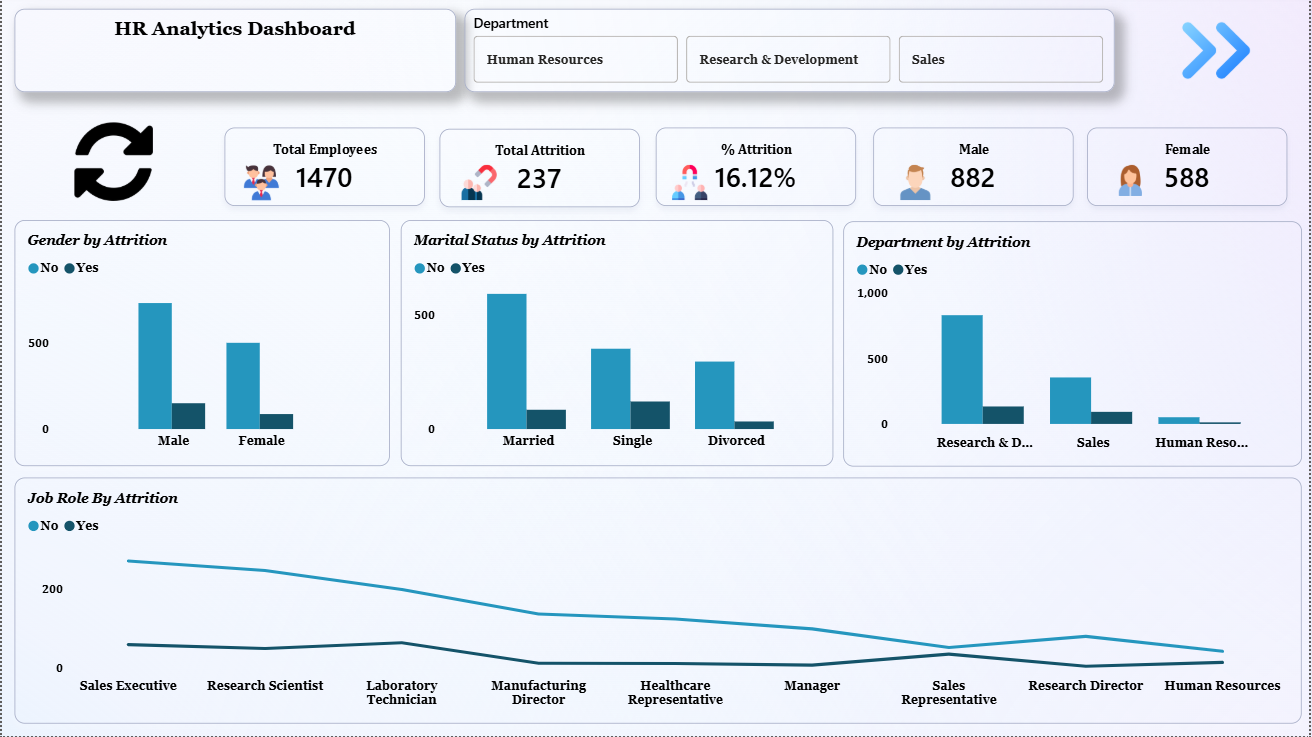

This screenshot's page, from the dashboard's own definition file:
{"tool":"powerbi","page":{"name":"Page 1","canvas":[1280,720],"ordinal":0},"visuals":[{"type":"clusteredColumnChart","title":"Department by Attrition","fields":{"Category":["HR-Employee-Attrition.Department"],"Y":["CountNonNull(HR-Employee-Attrition.Department)"],"Series":["HR-Employee-Attrition.Attrition"]},"box":[823,216.4,448.8,239.7],"z":0},{"type":"lineChart","title":"Job Role By Attrition","fields":{"Category":["HR-Employee-Attrition.JobRole"],"Y":["CountNonNull(HR-Employee-Attrition.JobRole)"],"Series":["HR-Employee-Attrition.Attrition"]},"box":[12.2,467.1,1259.5,240.9],"z":1000},{"type":"clusteredColumnChart","title":"Marital Status by Attrition","fields":{"Category":["HR-Employee-Attrition.MaritalStatus"],"Y":["CountNonNull(HR-Employee-Attrition.MaritalStatus)"],"Series":["HR-Employee-Attrition.Attrition"]},"box":[390.1,215.2,423.1,240.9],"z":2000},{"type":"clusteredColumnChart","title":"Gender by Attrition","fields":{"Category":["HR-Employee-Attrition.Gender"],"Y":["CountNonNull(HR-Employee-Attrition.Gender)"],"Series":["HR-Employee-Attrition.Attrition"]},"box":[12.2,215.2,366.8,240.9],"z":3000},{"type":"card","title":"Total Employees","fields":{"Values":["Measure.Total_Employee"]},"box":[217.7,124.7,195.7,77],"z":4000},{"type":"card","title":"Total Attrition","fields":{"Values":["Measure.Attrition"]},"box":[428,126,195.7,77],"z":5000},{"type":"card","title":"% Attrition","fields":{"Values":["Measure.% Attrition"]},"box":[639.5,124.7,195.7,77],"z":6000},{"type":"card","title":"Male","fields":{"Values":["Measure.Male"]},"box":[852.3,124.7,195.7,77],"z":7000},{"type":"card","title":"Female","fields":{"Values":["Measure.Female"]},"box":[1061.4,124.7,195.7,77],"z":8000},{"type":"textbox","box":[12.2,8.6,431.7,81.9],"z":9000},{"type":"advancedSlicerVisual","fields":{"Values":["HR-Employee-Attrition.Department"]},"box":[452.4,8.6,635.9,81.9],"z":10000},{"type":"image","box":[22,114.9,173.6,86.8],"z":11000},{"type":"image","box":[217.7,156.5,72.1,45.2],"z":12000},{"type":"image","box":[852.3,156.5,81.9,44],"z":13000},{"type":"image","box":[1061.4,156.5,85.6,40.4],"z":14000},{"type":"image","box":[428,156.5,77,44],"z":15000},{"type":"image","box":[639.5,156.5,66,44],"z":16000},{"type":"image","box":[1104.2,9.8,167.5,79.5],"z":17000}]}

Visuals, with their boxes in screenshot pixels (x1, y1, x2, y2), scaled from the page's 1280x720 canvas onto the 1312x737 screenshot:
"Department by Attrition" clusteredColumnChart: detection(844, 222, 1304, 467)
"Job Role By Attrition" lineChart: detection(13, 478, 1303, 725)
"Marital Status by Attrition" clusteredColumnChart: detection(400, 220, 834, 467)
"Gender by Attrition" clusteredColumnChart: detection(13, 220, 388, 467)
"Total Employees" card: detection(223, 128, 424, 206)
"Total Attrition" card: detection(439, 129, 639, 208)
"% Attrition" card: detection(655, 128, 856, 206)
"Male" card: detection(874, 128, 1074, 206)
"Female" card: detection(1088, 128, 1289, 206)
textbox: detection(13, 9, 455, 93)
advancedSlicerVisual - HR-Employee-Attrition.Department: detection(464, 9, 1116, 93)
image: detection(23, 118, 200, 206)
image: detection(223, 160, 297, 206)
image: detection(874, 160, 958, 205)
image: detection(1088, 160, 1176, 202)
image: detection(439, 160, 518, 205)
image: detection(655, 160, 723, 205)
image: detection(1132, 10, 1303, 91)
